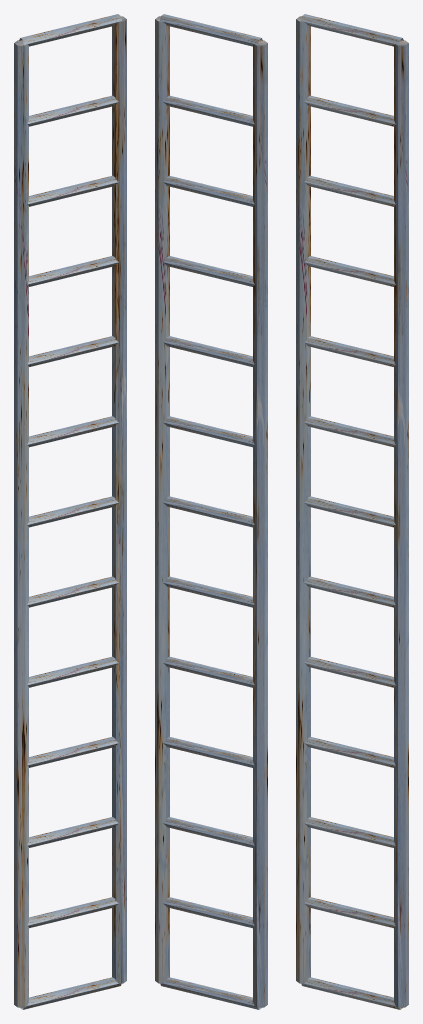
The model's file is ladder_9ft.obj.
3 views of the same model, side by side, from view 1: azimuth 30°, elevation 25°; view 2: azimuth 150°, elevation 25°; view 3: azimuth 330°, elevation 25° (orthographic).
Parts seen in each view (by area): view 1: Cylinder, Cylinder.001_Cylinder.002, Cylinder.012_Cylinder.013, Cylinder.008_Cylinder.009, Cylinder.002_Cylinder.003, Cylinder.003_Cylinder.004, Cylinder.004_Cylinder.005, Cylinder.005_Cylinder.006, Cylinder.013_Cylinder.014, Cylinder.014_Cylinder.015, Cylinder.015_Cylinder.016, Cylinder.017_Cylinder.018 (+3 smaller); view 2: Cylinder, Cylinder.001_Cylinder.002, Cylinder.012_Cylinder.013, Cylinder.008_Cylinder.009, Cylinder.002_Cylinder.003, Cylinder.003_Cylinder.004, Cylinder.004_Cylinder.005, Cylinder.005_Cylinder.006, Cylinder.013_Cylinder.014, Cylinder.014_Cylinder.015, Cylinder.015_Cylinder.016, Cylinder.017_Cylinder.018 (+3 smaller); view 3: Cylinder.001_Cylinder.002, Cylinder, Cylinder.012_Cylinder.013, Cylinder.008_Cylinder.009, Cylinder.002_Cylinder.003, Cylinder.003_Cylinder.004, Cylinder.004_Cylinder.005, Cylinder.005_Cylinder.006, Cylinder.013_Cylinder.014, Cylinder.014_Cylinder.015, Cylinder.015_Cylinder.016, Cylinder.017_Cylinder.018 (+3 smaller).
Boxes of the visible parts, <box> form: Cylinder: <box>14,40,28,1007</box>; Cylinder.001_Cylinder.002: <box>112,16,126,983</box>; Cylinder.012_Cylinder.013: <box>19,14,121,46</box>; Cylinder.008_Cylinder.009: <box>20,977,121,1009</box>; Cylinder.002_Cylinder.003: <box>27,496,118,527</box>; Cylinder.003_Cylinder.004: <box>27,576,118,607</box>; Cylinder.004_Cylinder.005: <box>27,656,118,687</box>; Cylinder.005_Cylinder.006: <box>27,736,118,767</box>; Cylinder.013_Cylinder.014: <box>27,95,118,126</box>; Cylinder.014_Cylinder.015: <box>27,175,118,206</box>; Cylinder.015_Cylinder.016: <box>27,256,118,286</box>; Cylinder.017_Cylinder.018: <box>27,416,118,447</box>; Cylinder: <box>253,40,267,1007</box>; Cylinder.001_Cylinder.002: <box>155,16,169,983</box>; Cylinder.012_Cylinder.013: <box>160,14,262,46</box>; Cylinder.008_Cylinder.009: <box>160,977,261,1009</box>; Cylinder.002_Cylinder.003: <box>163,496,254,527</box>; Cylinder.003_Cylinder.004: <box>163,576,254,607</box>; Cylinder.004_Cylinder.005: <box>163,656,254,687</box>; Cylinder.005_Cylinder.006: <box>163,736,254,767</box>; Cylinder.013_Cylinder.014: <box>163,95,254,126</box>; Cylinder.014_Cylinder.015: <box>163,175,254,206</box>; Cylinder.015_Cylinder.016: <box>163,256,254,286</box>; Cylinder.017_Cylinder.018: <box>163,416,254,447</box>; Cylinder.001_Cylinder.002: <box>394,40,408,1007</box>; Cylinder: <box>296,16,310,983</box>; Cylinder.012_Cylinder.013: <box>301,14,403,46</box>; Cylinder.008_Cylinder.009: <box>301,977,402,1009</box>; Cylinder.002_Cylinder.003: <box>304,496,395,527</box>; Cylinder.003_Cylinder.004: <box>304,576,395,607</box>; Cylinder.004_Cylinder.005: <box>304,656,395,687</box>; Cylinder.005_Cylinder.006: <box>304,736,395,767</box>; Cylinder.013_Cylinder.014: <box>304,95,395,126</box>; Cylinder.014_Cylinder.015: <box>304,175,395,206</box>; Cylinder.015_Cylinder.016: <box>304,256,395,286</box>; Cylinder.017_Cylinder.018: <box>304,416,395,447</box>.
Size of the model in its own units: 0.356 by 3.03 by 0.0416.
